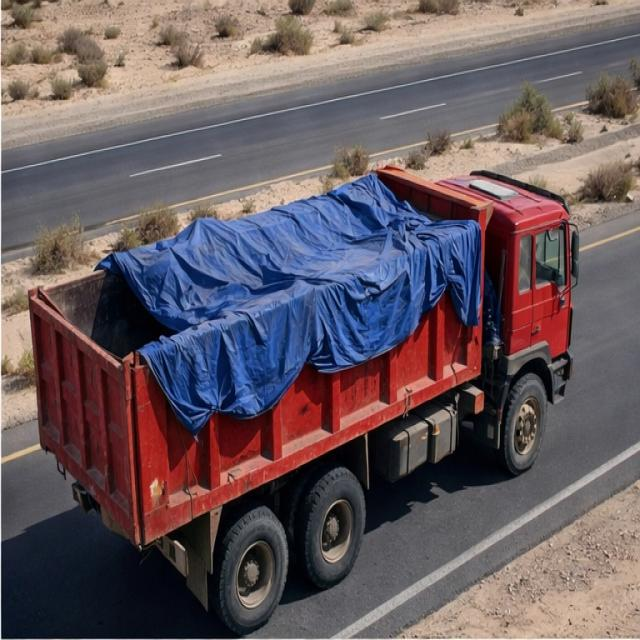trailer: (29, 164, 496, 429)
truck: (17, 152, 578, 620)
